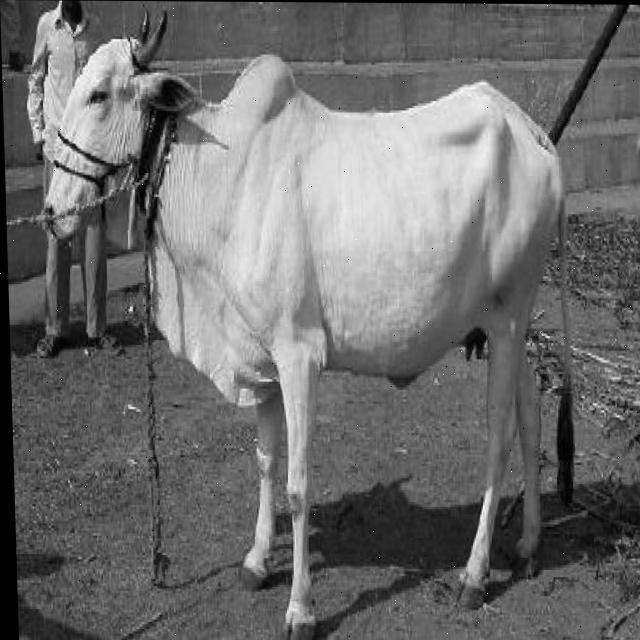Cow: (59, 51, 519, 563)
